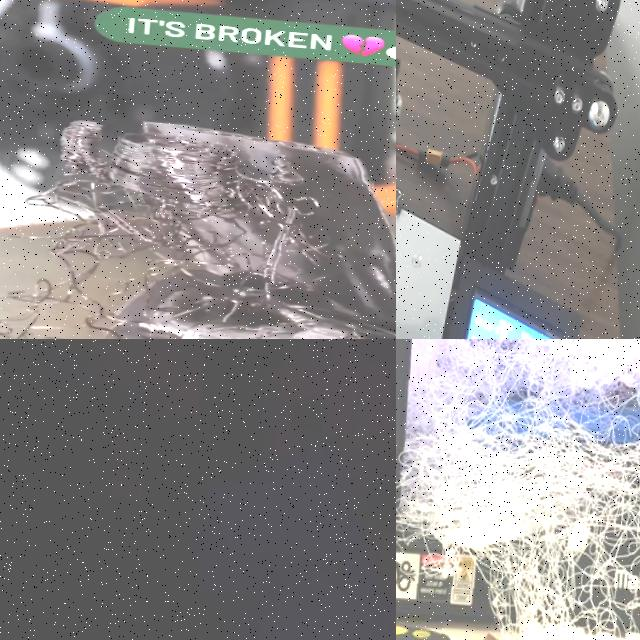spaghetti: (0, 110, 378, 339), (396, 339, 640, 640)
